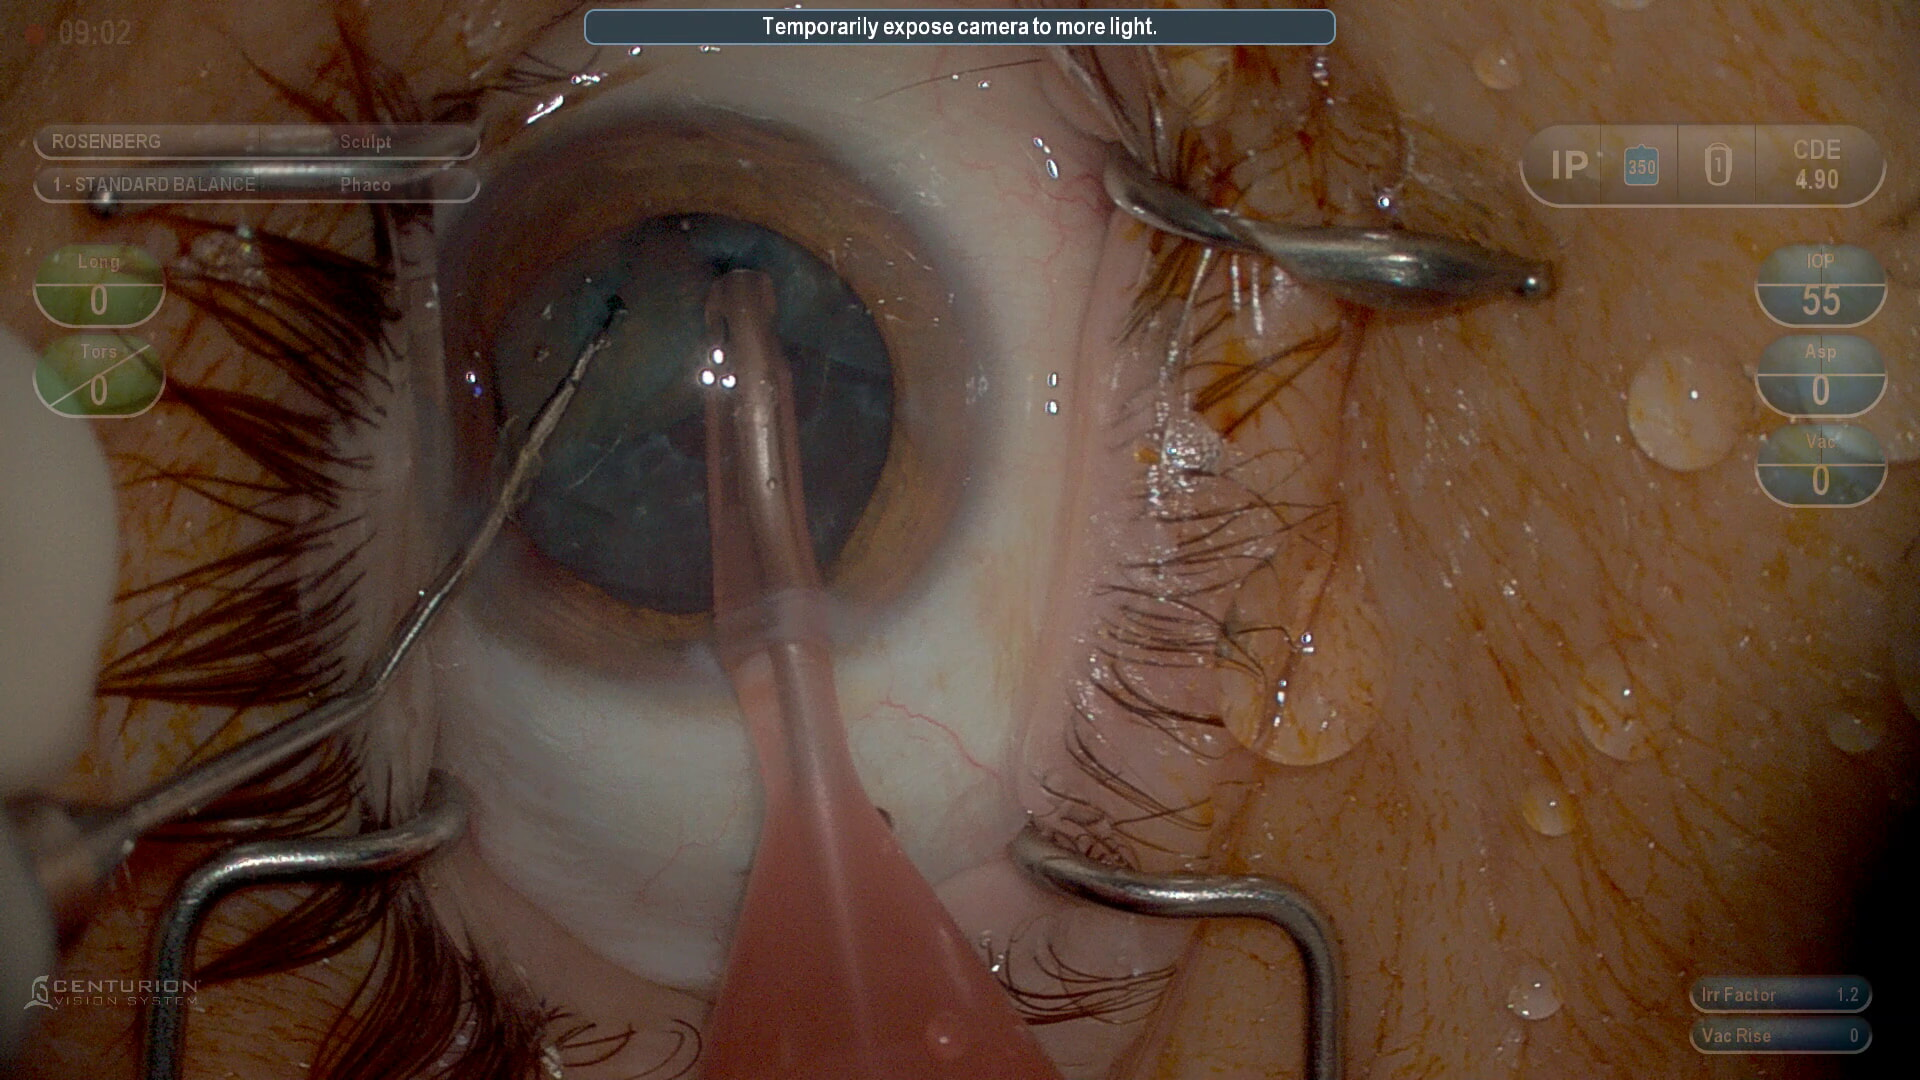iris: (430, 111, 984, 685)
pupil: (496, 214, 896, 607)
